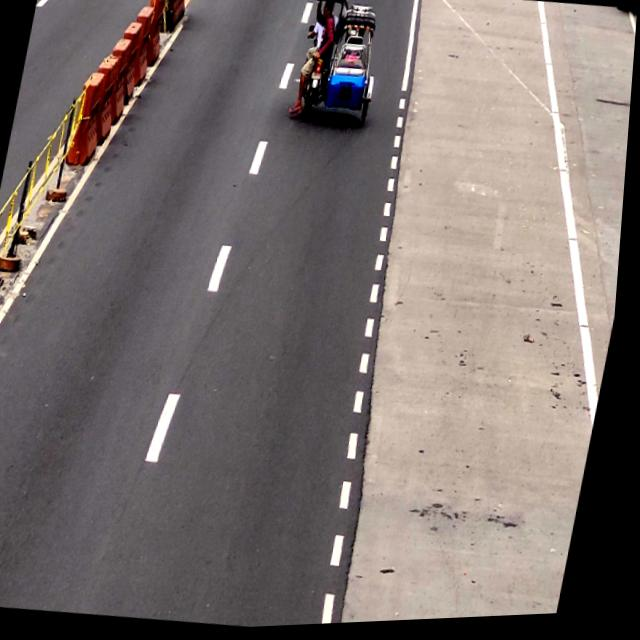Tricycle: (290, 0, 393, 135)
